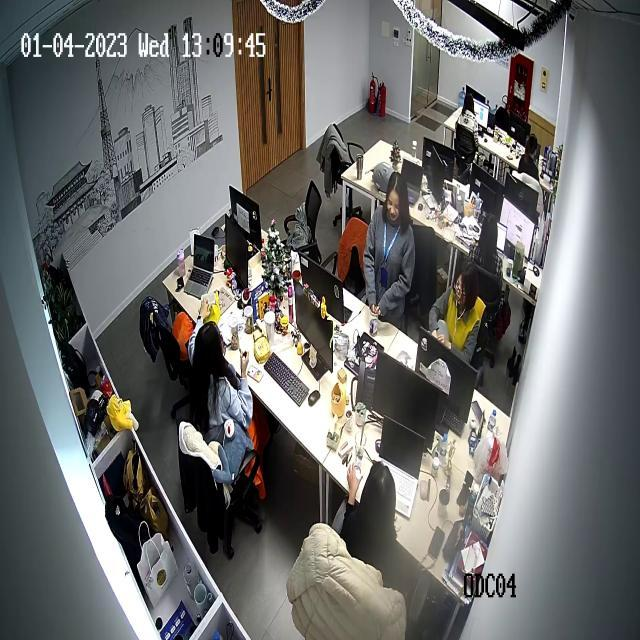person: (185, 309, 257, 429), (363, 171, 416, 334), (346, 460, 403, 585), (428, 262, 487, 364), (467, 213, 510, 327), (517, 130, 540, 178), (457, 93, 482, 134)
